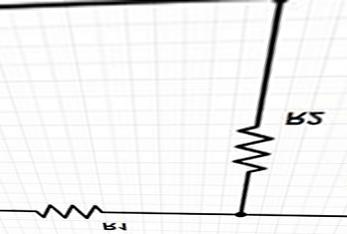resistor: (213, 120, 276, 177), (28, 198, 97, 226)
